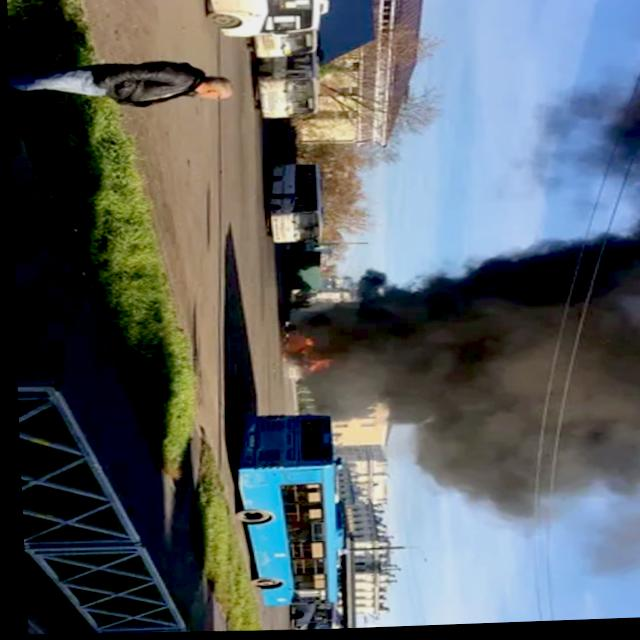Smoke: (308, 210, 640, 542)
